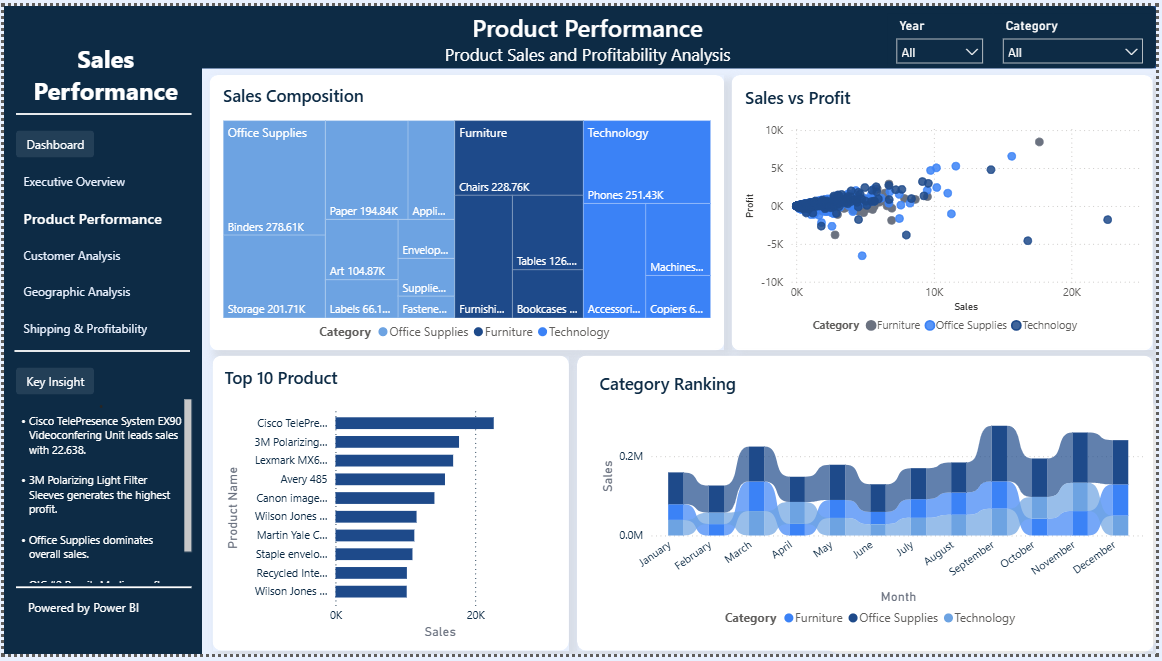

Layout of this report page (visuals, bound fields, positions):
{"tool":"powerbi","page":{"name":"Product Performance","canvas":[1280,720],"ordinal":1},"visuals":[{"type":"shape","box":[228,76,572,306],"z":0},{"type":"shape","box":[232,388,396,328],"z":1000},{"type":"shape","box":[808,76,468,306],"z":2000},{"type":"shape","box":[908,432,372,288],"z":3000},{"type":"shape","box":[636,388,640,328],"z":4000},{"type":"ribbonChart","title":"Category Ranking","fields":{"Category":["Sample___Superstore.ad_date.Variation.Date Hierarchy.Month"],"Series":["Sample___Superstore.Category"],"Y":["Sum(Sample___Superstore.Sales)"]},"box":[656,406,616,292],"z":5000},{"type":"treemap","title":"Sales Composition","fields":{"Values":["Sum(Sample___Superstore.Sales)"],"Group":["Sample___Superstore.Category"],"Details":["Sample___Superstore.Sub-Category"]},"box":[238.6,87.1,551.4,294.3],"z":6000},{"type":"scatterChart","title":"Sales vs Profit","fields":{"X":["Sum(Sample___Superstore.Sales)"],"Y":["Sum(Sample___Superstore.Profit)"],"Series":["Sample___Superstore.Category"],"Category":["Sample___Superstore.Product Name"]},"box":[817.5,87.5,458.8,285],"z":7000},{"type":"barChart","title":"Top 10 Product","fields":{"Category":["Sample___Superstore.Product Name"],"Y":["Sum(Sample___Superstore.Sales)"]},"box":[240,400,376,308],"z":8000},{"type":"shape","box":[169.6,0,1109.9,69.7],"z":9000},{"type":"shape","box":[0,0,220,720],"z":10000},{"type":"pageNavigator","box":[21.7,178.3,180,195],"z":11000},{"type":"textbox","box":[3.1,34.6,219.2,88.5],"z":12000},{"type":"textbox","box":[21.7,653.3,170,35],"z":13000},{"type":"shape","box":[12.5,110.8,195,16.7],"z":14000},{"type":"shape","box":[13.3,630,195,31.7],"z":15000},{"type":"textbox","box":[393.3,0,510,70],"z":16000},{"type":"slicer","fields":{"Values":["Sample___Superstore.Category"]},"box":[1100,7.5,175,58.8],"z":17000},{"type":"slicer","fields":{"Values":["Sample___Superstore.ad_date.Variation.Date Hierarchy.Year"]},"box":[981.2,7.6,116.6,59.1],"z":18000},{"type":"textbox","box":[15.8,137.5,80.8,30],"z":19000},{"type":"textbox","box":[15.8,400.8,80.8,30],"z":20000},{"type":"textbox","box":[5.7,431.4,208.6,214.3],"z":21000},{"type":"shape","box":[12.5,138.3,86.7,30],"z":22000},{"type":"shape","box":[13.3,401.7,86.7,30],"z":23000},{"type":"shape","box":[11.7,368.3,195,30],"z":24000}]}

Visuals, with their boxes on the page's 1280x720 design canvas (x1, y1, x2, y2). These are canvas units, not pixel positions in the 1162x661 screenshot, which may show the page scaled, cropped or inside an application window:
shape: region(228, 76, 800, 382)
shape: region(232, 388, 628, 716)
shape: region(808, 76, 1276, 382)
shape: region(908, 432, 1280, 720)
shape: region(636, 388, 1276, 716)
"Category Ranking" ribbonChart: region(656, 406, 1272, 698)
"Sales Composition" treemap: region(239, 87, 790, 381)
"Sales vs Profit" scatterChart: region(818, 88, 1276, 372)
"Top 10 Product" barChart: region(240, 400, 616, 708)
shape: region(170, 0, 1280, 70)
shape: region(0, 0, 220, 720)
pageNavigator: region(22, 178, 202, 373)
textbox: region(3, 35, 222, 123)
textbox: region(22, 653, 192, 688)
shape: region(12, 111, 208, 128)
shape: region(13, 630, 208, 662)
textbox: region(393, 0, 903, 70)
slicer - Sample___Superstore.Category: region(1100, 8, 1275, 66)
slicer - Sample___Superstore.ad_date.Variation.Date Hierarchy.Year: region(981, 8, 1098, 67)
textbox: region(16, 138, 97, 168)
textbox: region(16, 401, 97, 431)
textbox: region(6, 431, 214, 646)
shape: region(12, 138, 99, 168)
shape: region(13, 402, 100, 432)
shape: region(12, 368, 207, 398)
